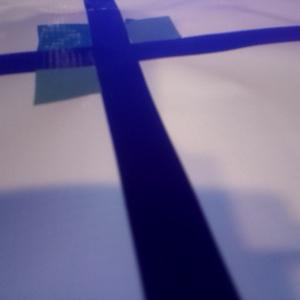bottom_left: (34, 50, 139, 104)
top_left: (37, 22, 124, 62)
top_right: (95, 15, 182, 55)
